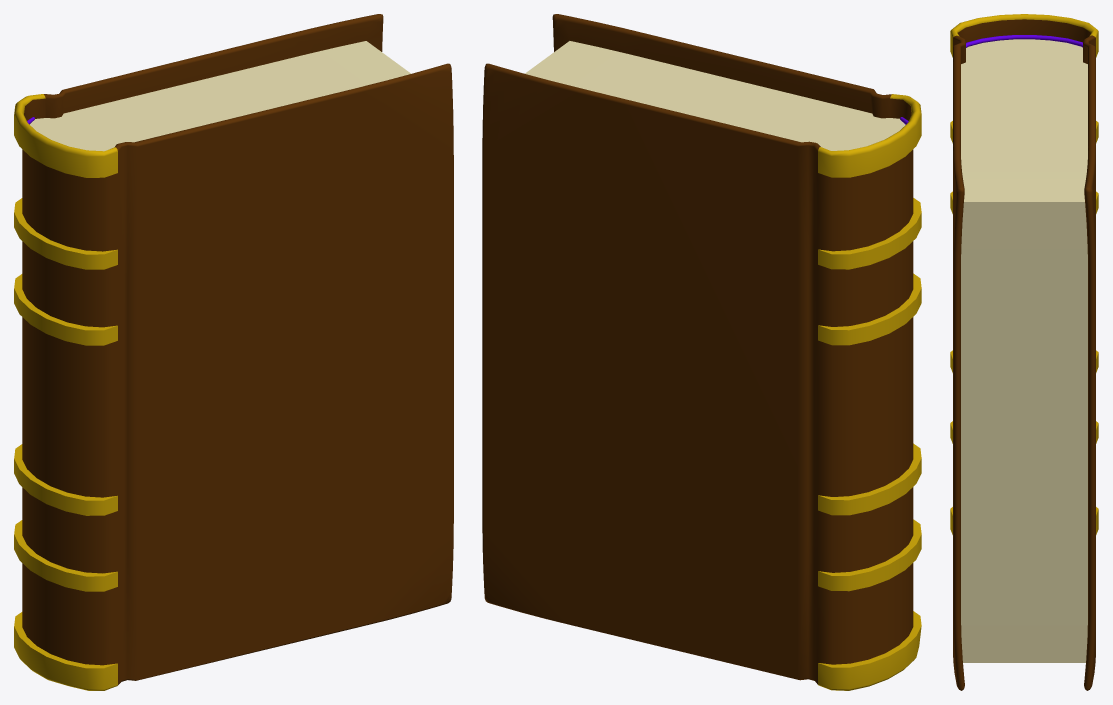
Rendered from Book Model.fbx.
The picture shows the model from 3 angles, left to right: view 1: azimuth 30°, elevation 25°; view 2: azimuth 150°, elevation 25°; view 3: azimuth 270°, elevation 25°; orthographic projection. The views are drawn at different scales.
Visible parts, largest first — view 1: polySurface3; view 2: polySurface3; view 3: polySurface3.
Part boxes in pixels (<box>): polySurface3: <box>14,14,453,690</box>; polySurface3: <box>482,14,921,690</box>; polySurface3: <box>950,14,1098,690</box>.
Bounding box in the file's own units: 17.47 × 23.35 × 6.23.
